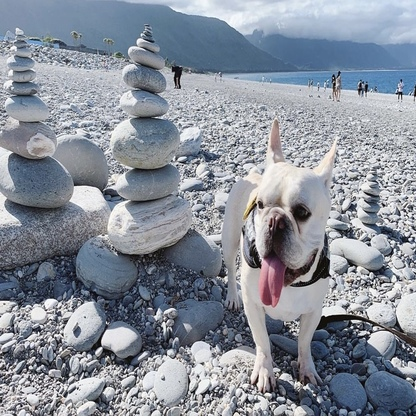bulldog: (220, 115, 341, 396)
